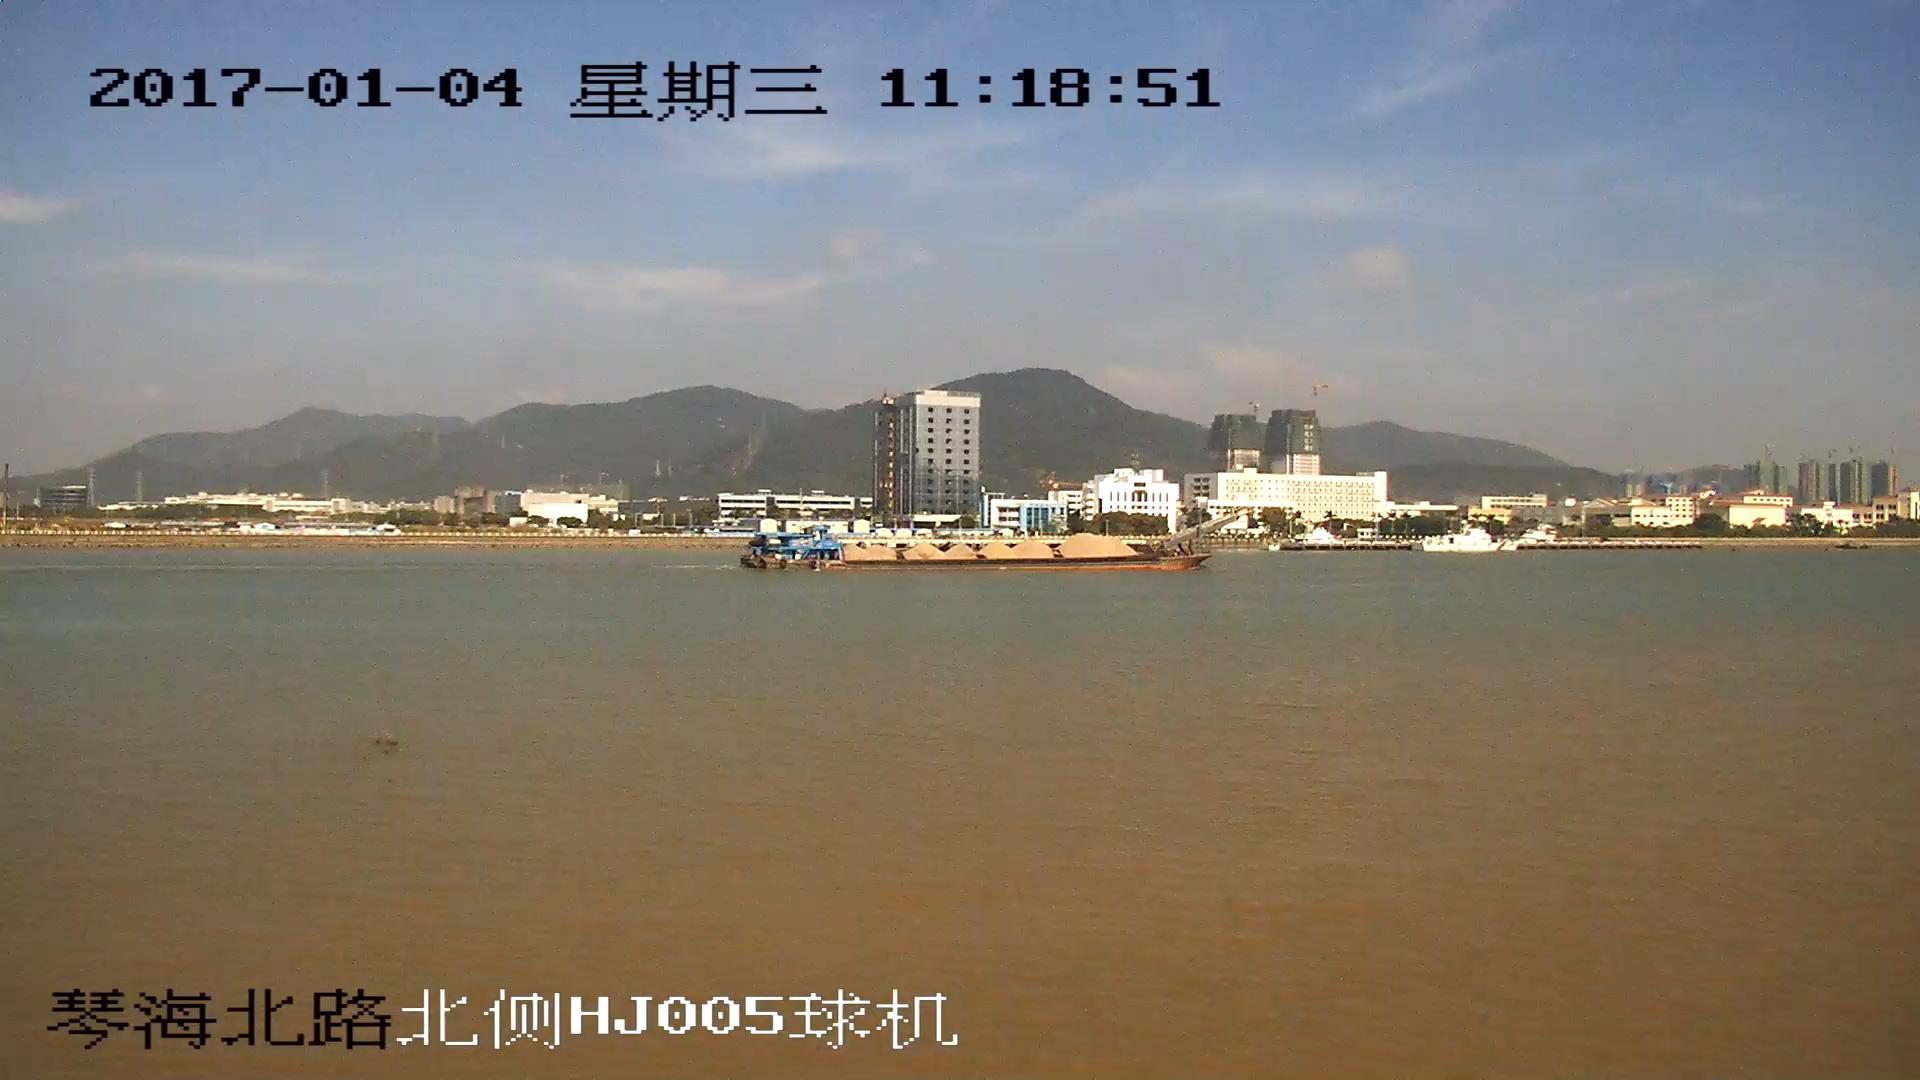ore carrier: (743, 517, 1242, 572)
